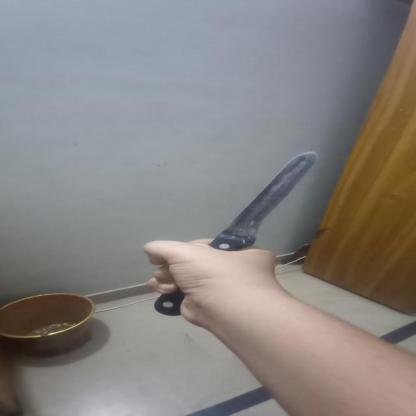Knife: (136, 148, 328, 321)
